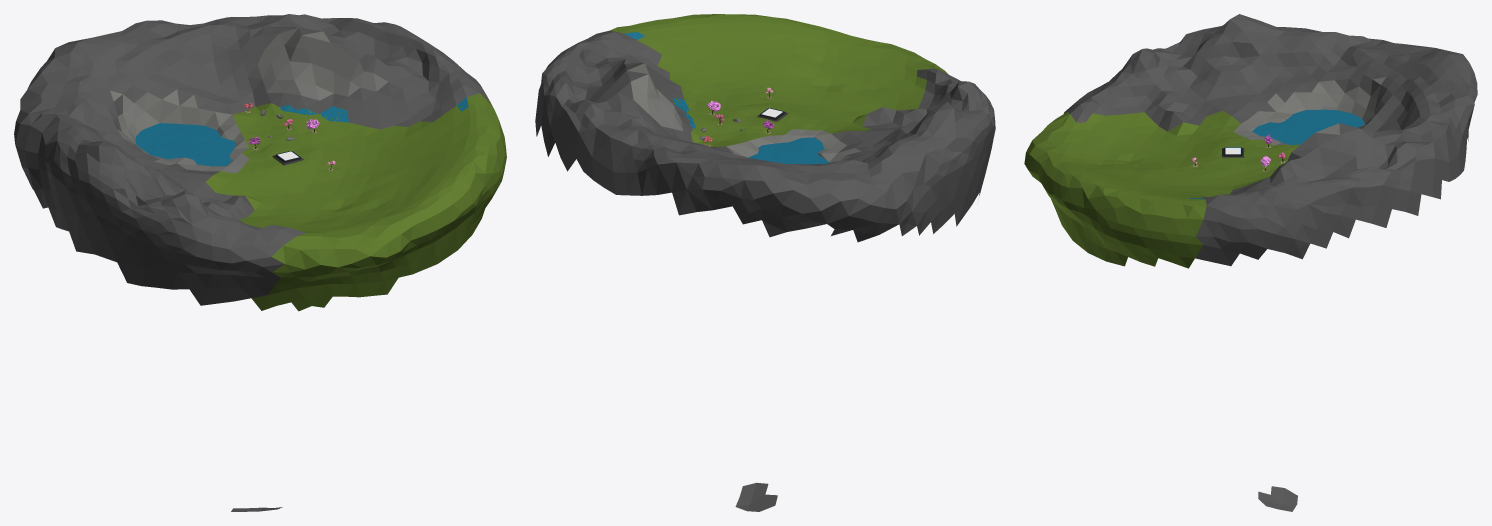
Rendered from environmentV3.obj.
The picture shows the model from 3 angles, left to right: view 1: azimuth 30°, elevation 25°; view 2: azimuth 150°, elevation 25°; view 3: azimuth 270°, elevation 25°; orthographic projection. The views are drawn at different scales.
Visible parts, largest first — view 1: Base_Icosphere.003, Sea_Icosphere.004; view 2: Base_Icosphere.003, Sea_Icosphere.004; view 3: Base_Icosphere.003, Sea_Icosphere.004.
Boxes of the visible parts, x1,y1,x2,y2 form: Base_Icosphere.003: (14, 14, 506, 511); Sea_Icosphere.004: (135, 123, 235, 166); Base_Icosphere.003: (535, 14, 995, 511); Sea_Icosphere.004: (748, 137, 829, 164); Base_Icosphere.003: (1024, 14, 1477, 511); Sea_Icosphere.004: (1252, 109, 1364, 144).
Bounding box in the file's own units: 859 × 886 × 870.
